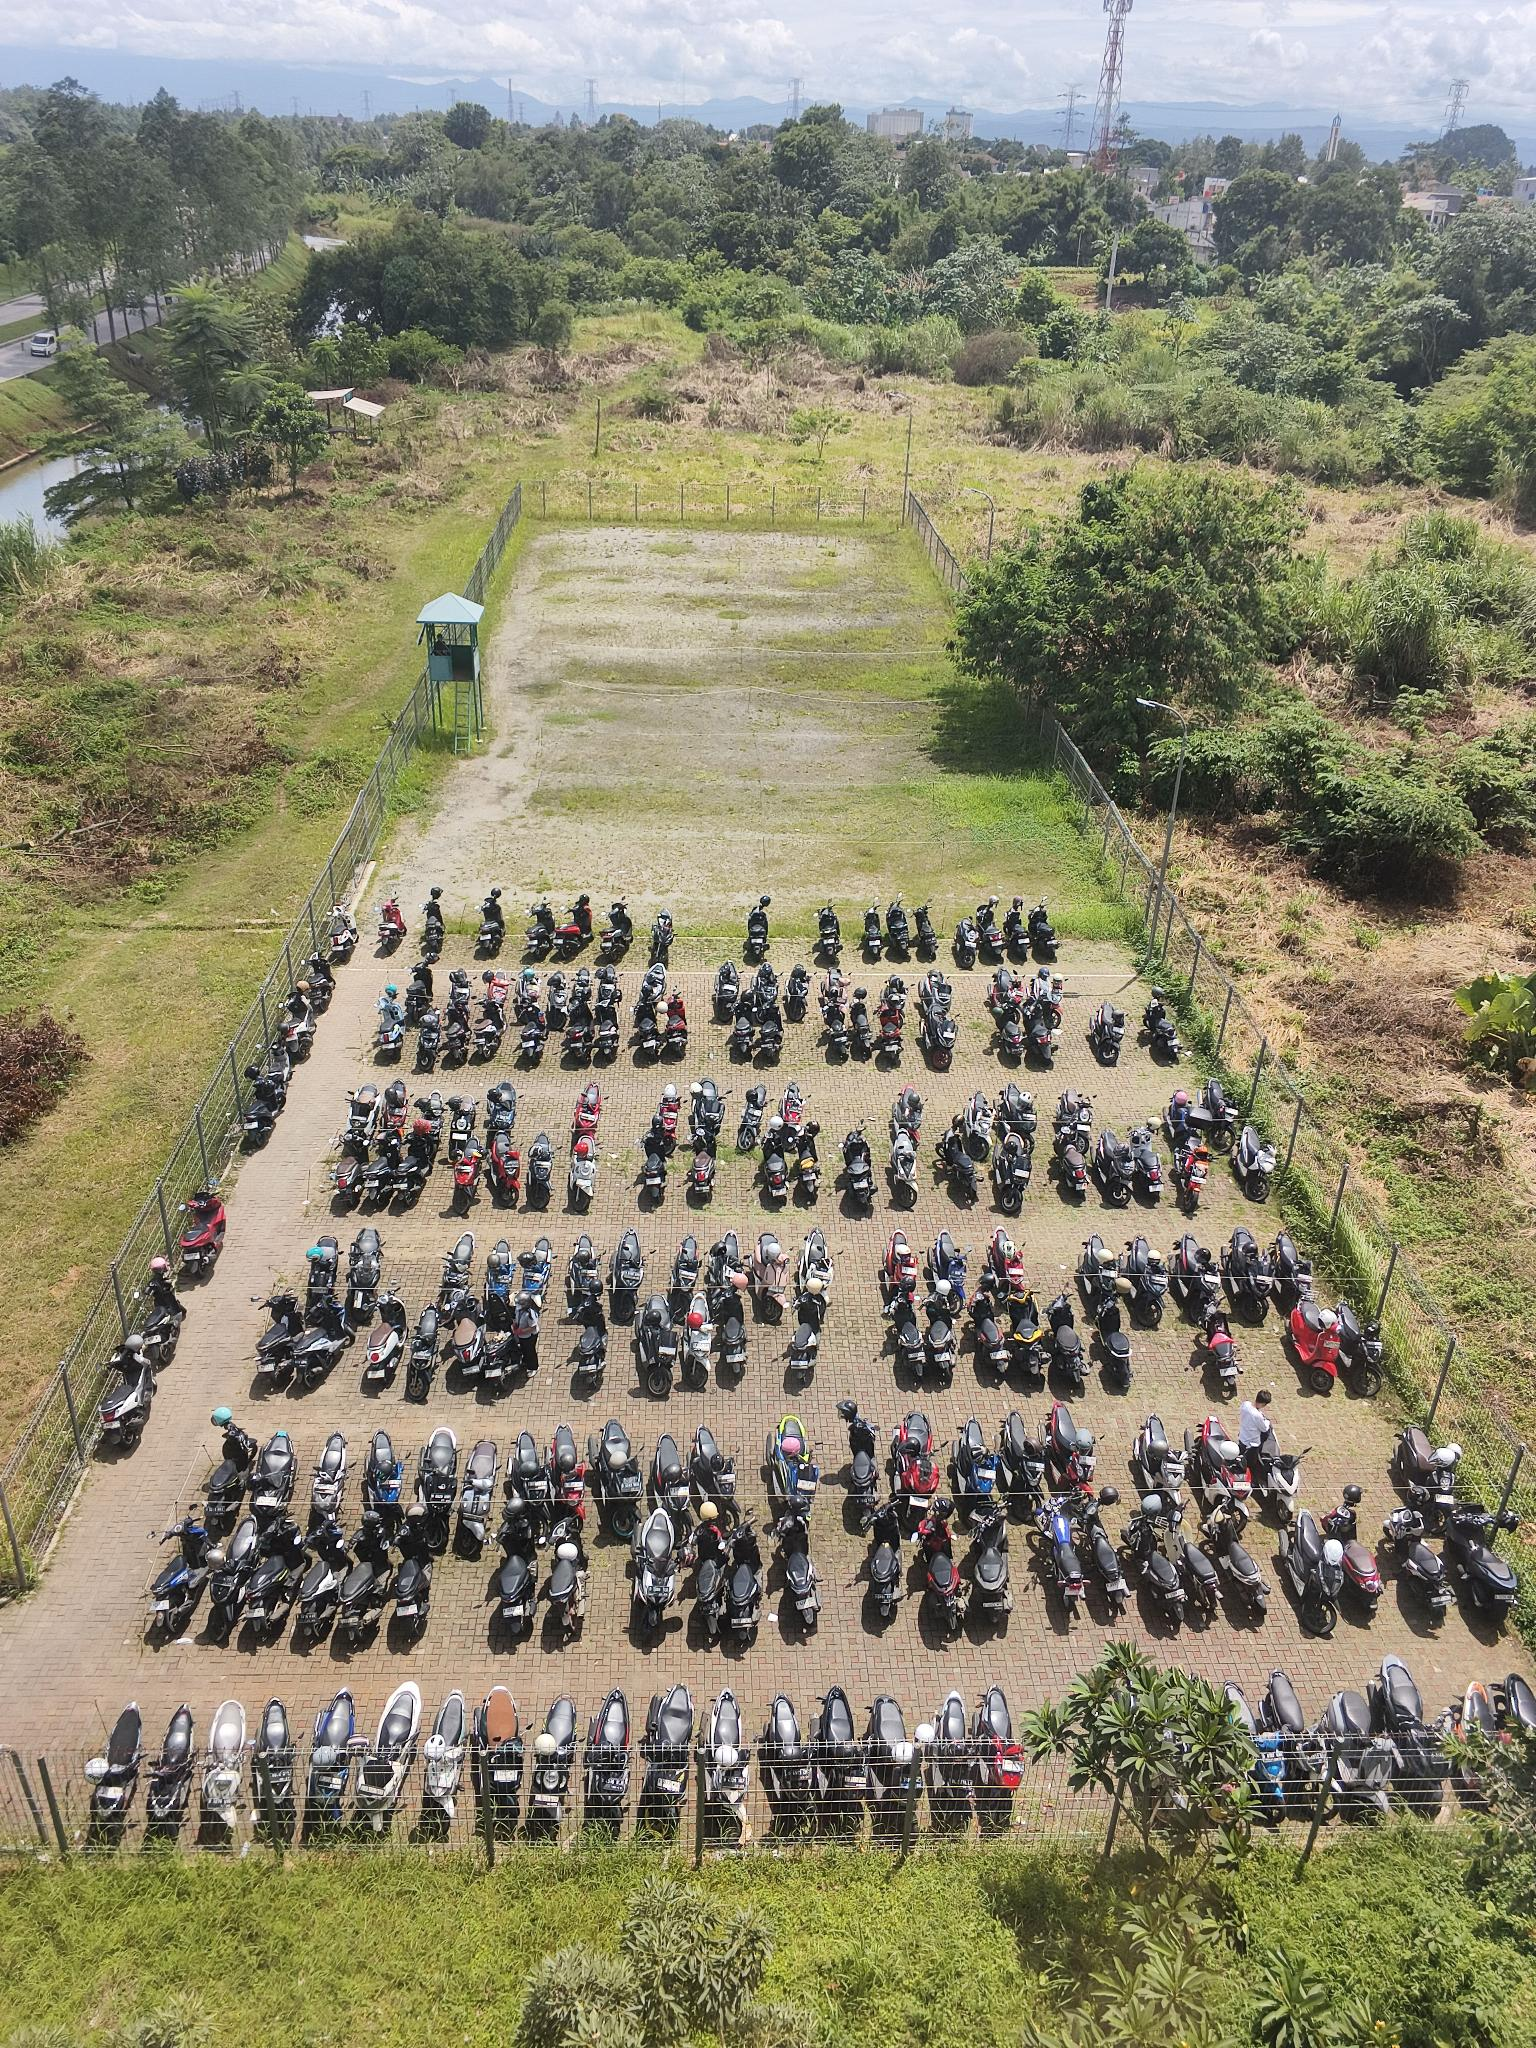motor: (1271, 1667, 1346, 1829), (352, 1672, 419, 1846), (803, 1675, 870, 1845), (757, 1687, 820, 1858), (632, 1680, 695, 1851), (76, 1696, 145, 1851), (1370, 1650, 1442, 1792), (863, 1688, 933, 1837), (697, 1684, 757, 1850), (579, 1682, 636, 1854), (1225, 1675, 1288, 1822), (468, 1684, 524, 1846), (1446, 1500, 1521, 1621), (303, 1685, 361, 1842), (1384, 1500, 1457, 1622), (1275, 1505, 1344, 1632), (194, 1696, 250, 1853), (1183, 1411, 1255, 1532), (1321, 1685, 1392, 1808), (971, 1675, 1025, 1837), (1388, 1424, 1465, 1532), (925, 1682, 978, 1838), (145, 1701, 200, 1853), (148, 1508, 210, 1638), (1326, 1498, 1388, 1629), (1123, 1503, 1186, 1629), (529, 1684, 579, 1842), (253, 1692, 303, 1848), (582, 1417, 649, 1535), (1037, 1398, 1110, 1505), (913, 1503, 968, 1640), (773, 1508, 831, 1634), (1079, 1490, 1136, 1619), (1165, 1503, 1229, 1616), (1036, 1492, 1089, 1627), (250, 1509, 305, 1640), (102, 1335, 161, 1455), (423, 1687, 468, 1843), (684, 1422, 745, 1535), (886, 1408, 941, 1534), (1129, 1411, 1189, 1524), (762, 1411, 823, 1521), (833, 1398, 884, 1527), (294, 1287, 355, 1395), (495, 1496, 541, 1638), (302, 1424, 353, 1546), (339, 1514, 390, 1637), (295, 1521, 345, 1645), (968, 1496, 1015, 1629), (1281, 1298, 1339, 1405), (1213, 1509, 1271, 1616), (202, 1409, 253, 1529), (994, 1406, 1047, 1519), (248, 1285, 307, 1388), (726, 1513, 771, 1643), (208, 1521, 257, 1642), (418, 1414, 458, 1558), (360, 1426, 413, 1534), (361, 1277, 410, 1395), (639, 1506, 679, 1646), (949, 1409, 1000, 1516), (1334, 1298, 1389, 1398), (505, 1422, 550, 1543), (1436, 1674, 1494, 1767), (1218, 1229, 1275, 1324), (573, 1285, 613, 1417), (137, 1261, 189, 1364), (174, 1187, 231, 1280), (453, 1435, 497, 1556), (1163, 1229, 1221, 1319), (1117, 1227, 1168, 1327), (781, 1285, 831, 1388), (962, 1279, 1013, 1379), (550, 1516, 592, 1638), (392, 1508, 432, 1635), (1194, 1292, 1242, 1397), (687, 1517, 729, 1638), (863, 1503, 905, 1624), (1094, 1284, 1136, 1401), (248, 1421, 298, 1519), (834, 1119, 883, 1219), (647, 1422, 692, 1526), (1070, 1229, 1123, 1316), (545, 1421, 587, 1530), (1004, 1282, 1049, 1380), (887, 1279, 931, 1380), (637, 1292, 678, 1401), (933, 1114, 981, 1203), (679, 1290, 715, 1411), (1047, 1287, 1089, 1388), (345, 1224, 387, 1322), (713, 1282, 755, 1380), (921, 1285, 963, 1384), (1049, 1118, 1094, 1208), (749, 1229, 792, 1322), (794, 1222, 836, 1317), (878, 1226, 923, 1313), (407, 1301, 445, 1401), (925, 1227, 970, 1313), (1265, 1229, 1313, 1308), (605, 1226, 644, 1324), (1233, 1122, 1279, 1203), (447, 1282, 487, 1376), (565, 1230, 603, 1327), (883, 1122, 925, 1211), (991, 1130, 1034, 1214), (1125, 1118, 1167, 1205), (515, 1232, 557, 1319), (753, 1121, 794, 1211), (1194, 1076, 1241, 1153), (992, 1077, 1039, 1153), (245, 1066, 287, 1150), (666, 1229, 703, 1321), (983, 1224, 1029, 1297), (1171, 1135, 1213, 1216), (789, 1122, 829, 1205), (1142, 984, 1184, 1063), (437, 1230, 476, 1316), (305, 1230, 344, 1314), (637, 1118, 674, 1205), (682, 1126, 721, 1205), (1094, 1129, 1133, 1208), (339, 1079, 379, 1153), (1050, 1084, 1094, 1151), (276, 989, 316, 1061), (445, 1085, 478, 1176), (705, 1226, 742, 1303), (450, 1135, 484, 1219), (566, 1129, 597, 1221), (1087, 993, 1125, 1069), (733, 1079, 770, 1155), (568, 1079, 605, 1155), (482, 1232, 518, 1311), (553, 892, 594, 961), (334, 1124, 368, 1206), (489, 1129, 521, 1214), (1021, 992, 1057, 1069), (689, 1076, 728, 1147), (650, 1082, 686, 1159), (399, 1122, 431, 1206), (526, 1130, 558, 1214), (920, 1003, 958, 1072), (379, 1074, 411, 1156), (473, 884, 508, 958), (473, 995, 510, 1066), (810, 898, 849, 966), (887, 1082, 926, 1150), (1492, 1669, 1536, 1727), (597, 897, 636, 961), (992, 998, 1028, 1068), (366, 1129, 399, 1205), (413, 1085, 445, 1159), (845, 987, 876, 1063), (962, 1085, 992, 1161), (484, 1079, 518, 1147), (874, 993, 907, 1064), (818, 995, 852, 1061), (744, 895, 776, 964), (376, 987, 407, 1059), (855, 897, 887, 964), (405, 958, 437, 1026), (515, 1000, 547, 1068), (755, 995, 786, 1066), (776, 1077, 807, 1148), (565, 995, 595, 1064), (1029, 971, 1066, 1027), (440, 1000, 473, 1064), (708, 959, 742, 1021), (728, 993, 757, 1064), (1162, 1085, 1192, 1151), (634, 995, 663, 1064), (663, 990, 692, 1059), (521, 897, 553, 958), (975, 893, 1005, 958), (307, 950, 339, 1011), (647, 906, 678, 969), (413, 1011, 442, 1077), (1029, 895, 1057, 964), (329, 901, 360, 963), (479, 964, 511, 1022), (986, 966, 1023, 1016), (265, 1039, 295, 1098), (378, 897, 407, 959), (884, 895, 913, 958), (594, 1000, 623, 1063), (747, 961, 779, 1018), (445, 968, 476, 1026), (418, 890, 445, 955), (511, 964, 542, 1021), (913, 898, 941, 961), (878, 968, 910, 1021), (786, 964, 816, 1019), (636, 963, 666, 1018), (1005, 893, 1029, 963), (916, 971, 952, 1018), (597, 964, 624, 1019), (820, 966, 854, 1008), (547, 966, 570, 1029), (950, 914, 976, 969), (566, 966, 594, 1016)
